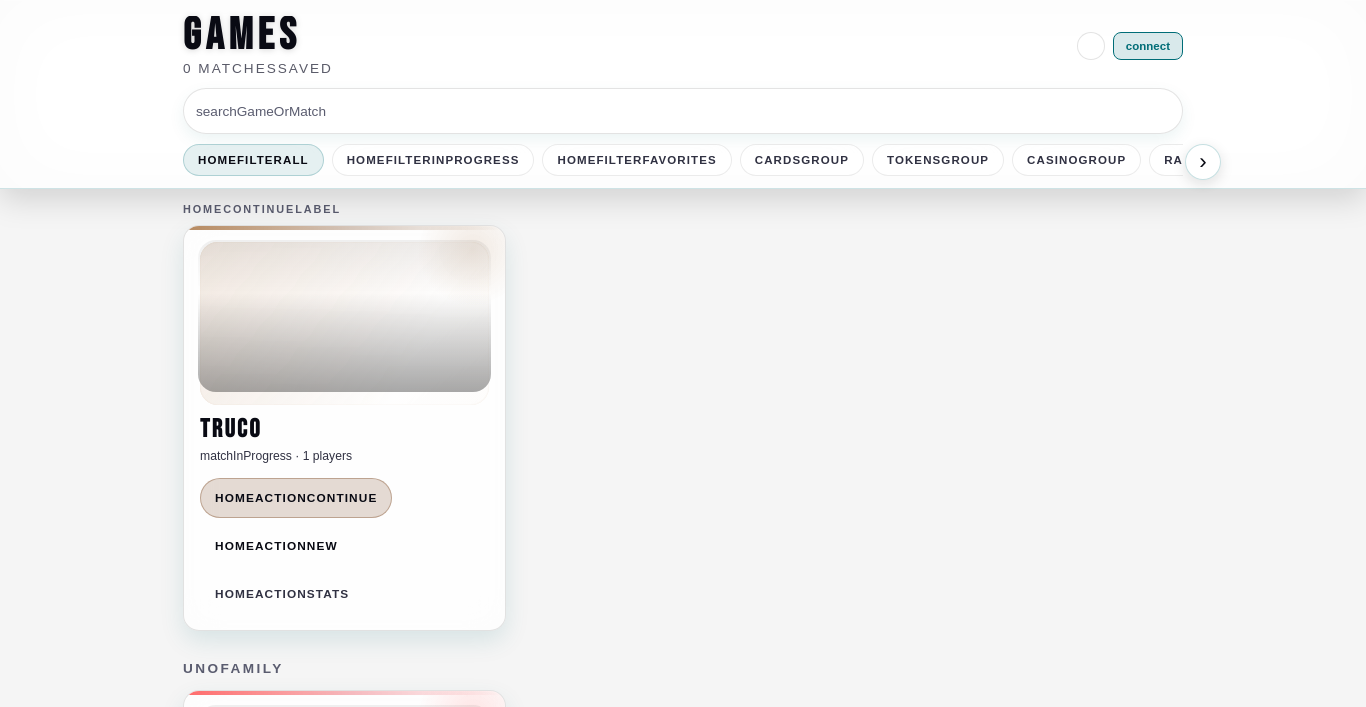
Test: HomeTab filter chips › in-progress filter renders no featured hero and no recent rail
The width and height of the screenshot is (1366, 707).
Click the button "homeFilterInProgress". click: [433, 160]
box: [332,144,534,176]
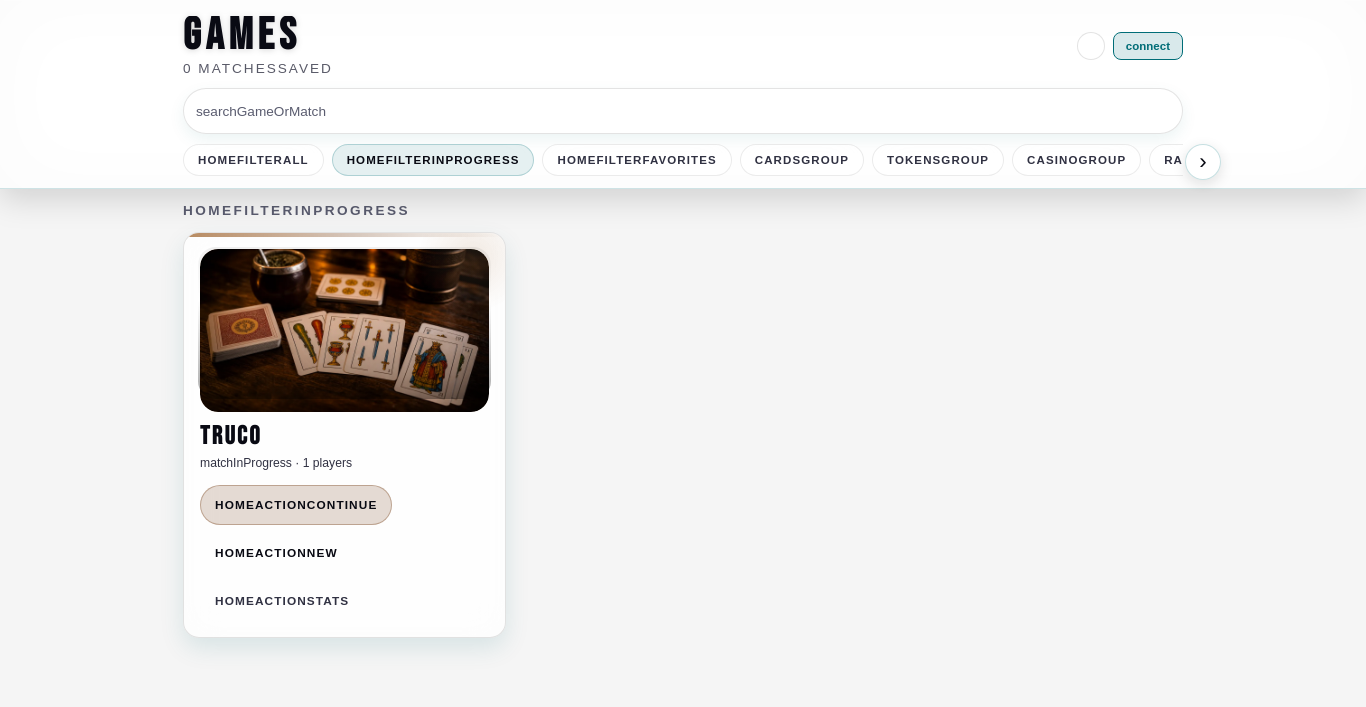
Check: the button with test id "game-truco" is shown, box [200,249,489,473]
Check: the element with class "home-top-shell" is gone
